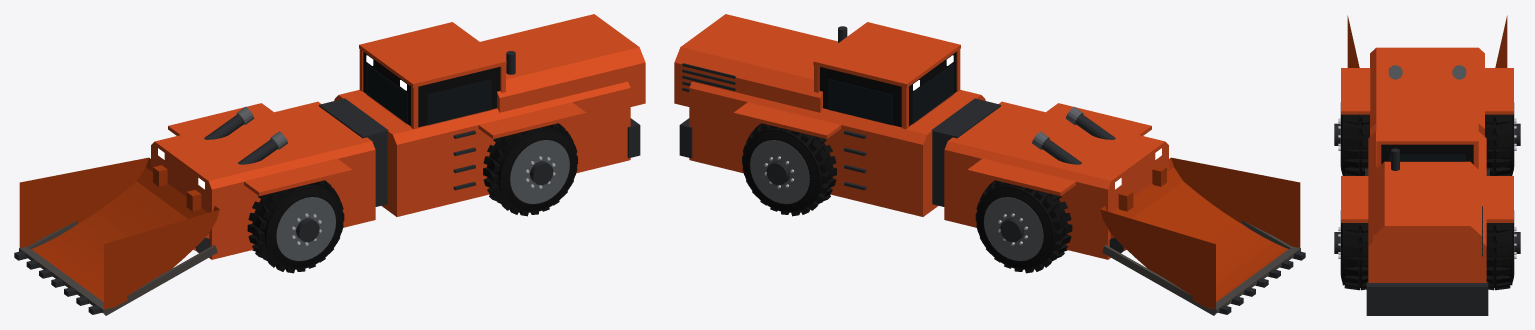
File: LHD_10t_SpecConcept.glb
The picture shows the model from 3 angles, left to right: view 1: azimuth 30°, elevation 25°; view 2: azimuth 150°, elevation 25°; view 3: azimuth 270°, elevation 25°; orthographic projection. The views are drawn at different scales.
Visible parts, largest first — view 1: bucket_main, front_chassis, rear_chassis, operator_cabin, engine_cover, wheel_FR, wheel_RR, articulation_joint, tilt_cyl_L, tilt_cyl_R; view 2: bucket_main, front_chassis, rear_chassis, operator_cabin, engine_cover, wheel_FL, wheel_RL, articulation_joint, tilt_cyl_R, tilt_cyl_L; view 3: engine_cover, rear_chassis, front_chassis, operator_cabin, wheel_RL, wheel_RR, wheel_FL, wheel_FR, bucket_main, tilt_cyl_L, tilt_cyl_R.
Part boxes in pixels (bbox=[...]): bucket_main: bbox=[14, 157, 219, 315]; front_chassis: bbox=[151, 101, 375, 259]; rear_chassis: bbox=[334, 81, 640, 216]; operator_cabin: bbox=[359, 22, 506, 129]; engine_cover: bbox=[480, 14, 645, 112]; wheel_FR: bbox=[247, 180, 344, 273]; wheel_RR: bbox=[483, 123, 577, 216]; articulation_joint: bbox=[319, 98, 388, 206]; tilt_cyl_L: bbox=[204, 106, 254, 139]; tilt_cyl_R: bbox=[238, 131, 287, 164]; bucket_main: bbox=[1100, 157, 1305, 315]; front_chassis: bbox=[944, 101, 1168, 259]; rear_chassis: bbox=[679, 81, 985, 216]; operator_cabin: bbox=[813, 22, 960, 129]; engine_cover: bbox=[674, 14, 847, 112]; wheel_FL: bbox=[975, 180, 1072, 273]; wheel_RL: bbox=[742, 123, 836, 216]; articulation_joint: bbox=[931, 98, 1000, 206]; tilt_cyl_R: bbox=[1065, 106, 1115, 139]; tilt_cyl_L: bbox=[1032, 131, 1081, 164]; engine_cover: bbox=[1373, 148, 1482, 274]; rear_chassis: bbox=[1341, 131, 1513, 315]; front_chassis: bbox=[1341, 47, 1513, 136]; operator_cabin: bbox=[1376, 98, 1478, 168]; wheel_RL: bbox=[1486, 210, 1520, 290]; wheel_RR: bbox=[1334, 210, 1368, 290]; wheel_FL: bbox=[1485, 102, 1520, 175]; wheel_FR: bbox=[1334, 102, 1369, 175]; bucket_main: bbox=[1347, 15, 1507, 67]; tilt_cyl_L: bbox=[1452, 65, 1466, 79]; tilt_cyl_R: bbox=[1388, 65, 1402, 79].
Size of the model in its own units: 9.64 by 2.36 by 2.91.
